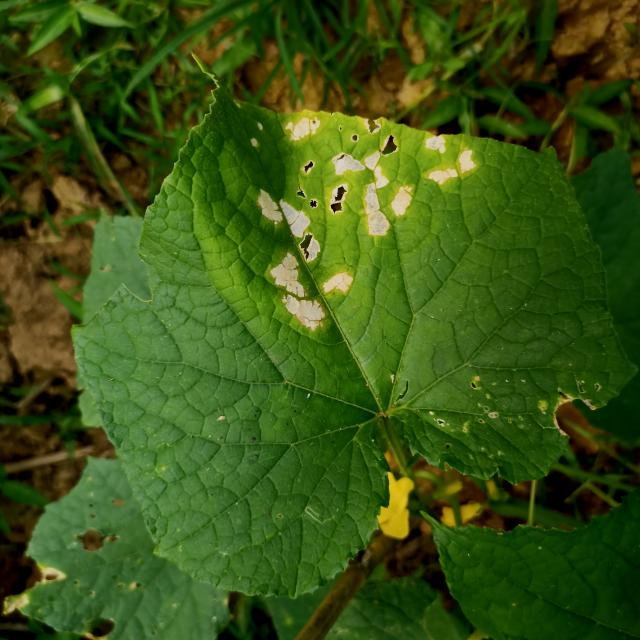disease_cucumber: (254, 109, 484, 337)
